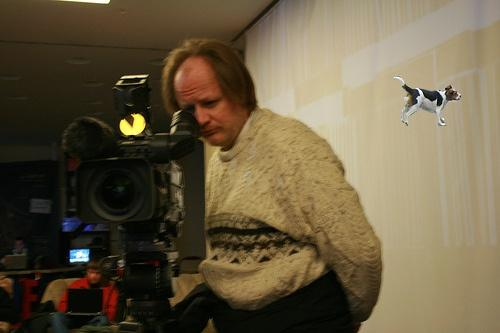tampered: (394, 77, 461, 126)
